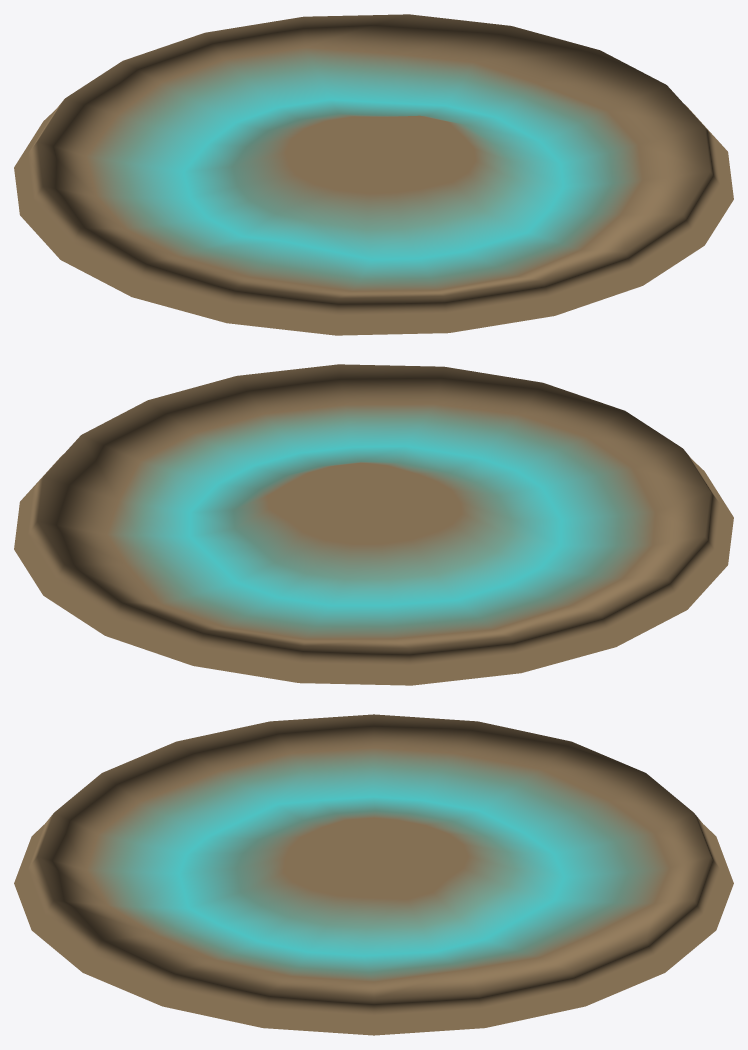
Rendered from Sand_Environment.fbx.
The picture shows the model from 3 angles, top to bottom: view 1: azimuth 30°, elevation 25°; view 2: azimuth 150°, elevation 25°; view 3: azimuth 270°, elevation 25°; orthographic projection.
Visible parts, largest first — view 1: platform2; view 2: platform2; view 3: platform2.
Part boxes in pixels (left/top/right/bottom): platform2: left=14, top=14, right=733, bottom=335; platform2: left=14, top=364, right=733, bottom=685; platform2: left=14, top=714, right=733, bottom=1035.
Size of the model in its own units: 444 by 18.96 by 444.
